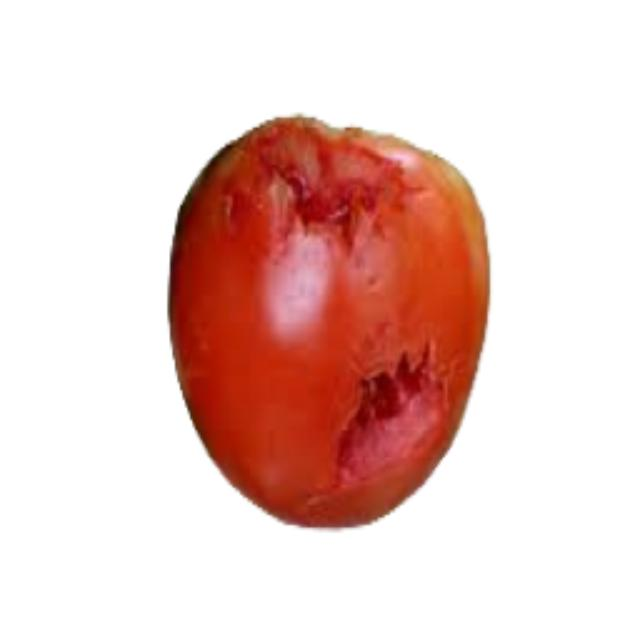defect: (165, 105, 492, 532)
